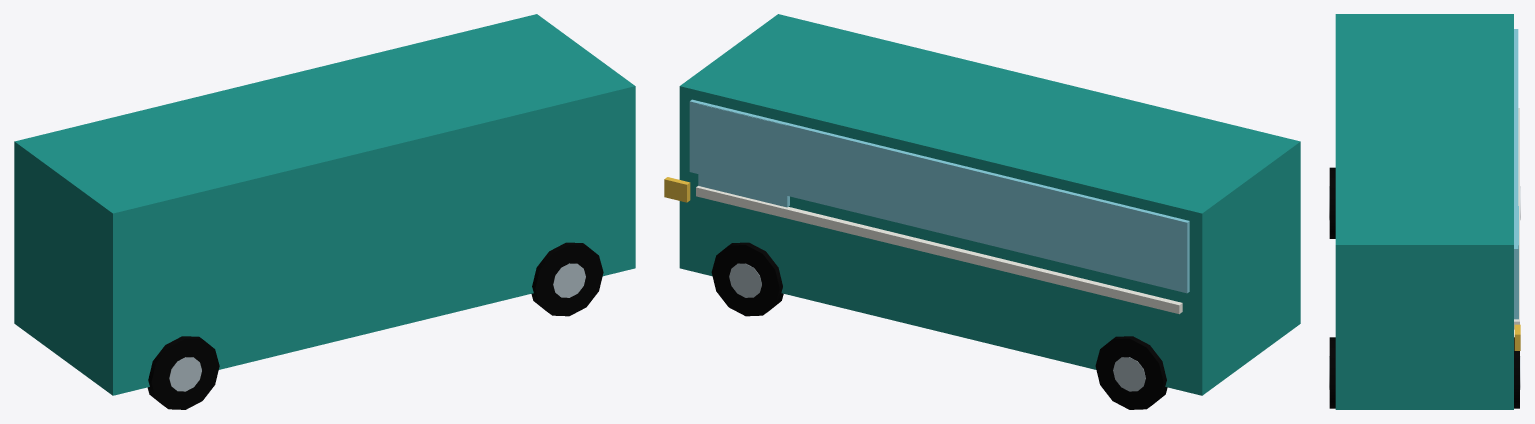
3 renders of one model, left to right at view 1: azimuth 30°, elevation 25°; view 2: azimuth 150°, elevation 25°; view 3: azimuth 270°, elevation 25°, orthographic. The views are drawn at different scales.
Visible parts, largest first — view 1: bus-body, wheel (×2), hub (×2); view 2: bus-body, bus-windows, driver-window, wheel (×2), beltline, hub (×2), headlight; view 3: bus-body, bus-windows, wheel (×3), beltline, headlight.
Part boxes in pixels (x1,y1,x2,y2): bus-body: (14,14,635,395); wheel (×2): (147,242,603,409); hub (×2): (169,263,585,391); bus-body: (679,14,1300,395); bus-windows: (689,99,1189,293); driver-window: (698,104,789,207); wheel (×2): (711,242,1167,409); beltline: (696,186,1182,314); hub (×2): (729,263,1145,391); headlight: (664,177,690,202); bus-body: (1335,14,1513,409); bus-windows: (1514,29,1518,312); wheel (×3): (1329,167,1519,408); beltline: (1514,108,1519,329); headlight: (1514,324,1520,350).
Bounding box in the file's own units: 7.51 × 2.84 × 2.58.
